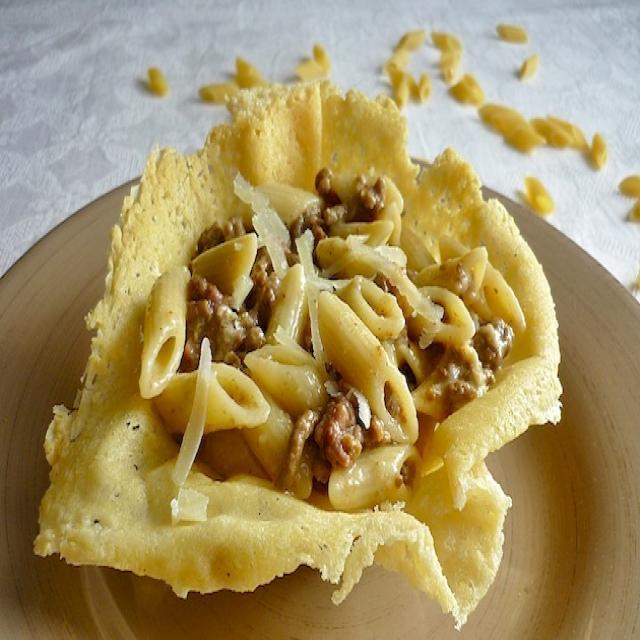Pasta al ragu: (131, 90, 566, 560)
